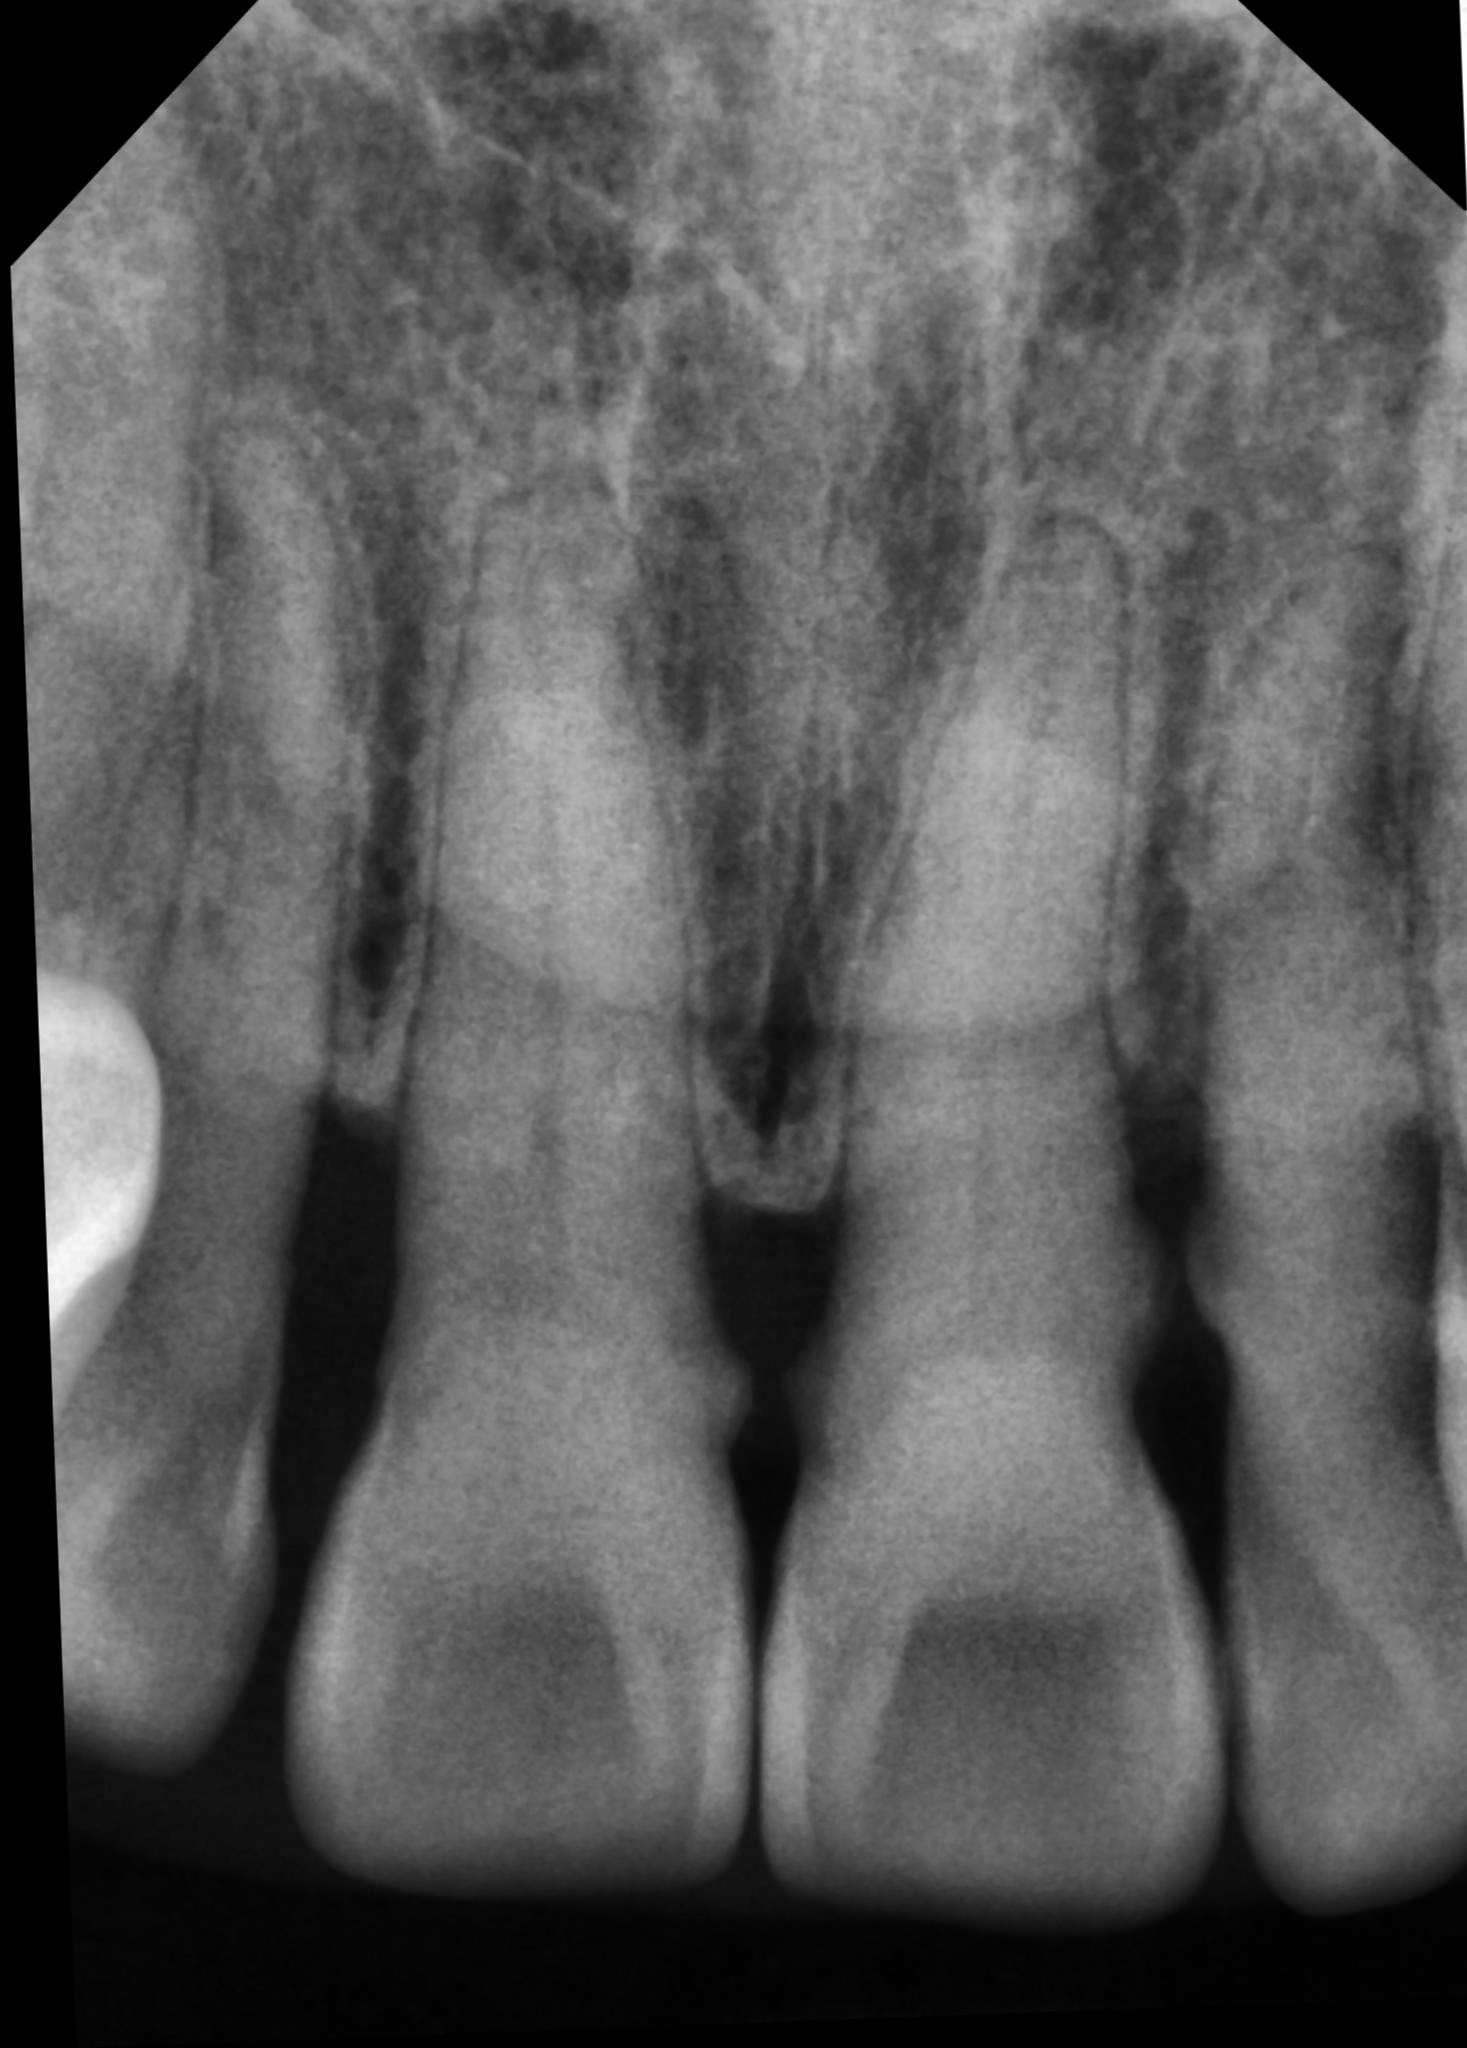Individual Tooth: (746, 533, 1208, 1940), (276, 510, 738, 1897), (35, 405, 337, 1770), (1203, 575, 1467, 1915), (1403, 373, 1467, 1576)
